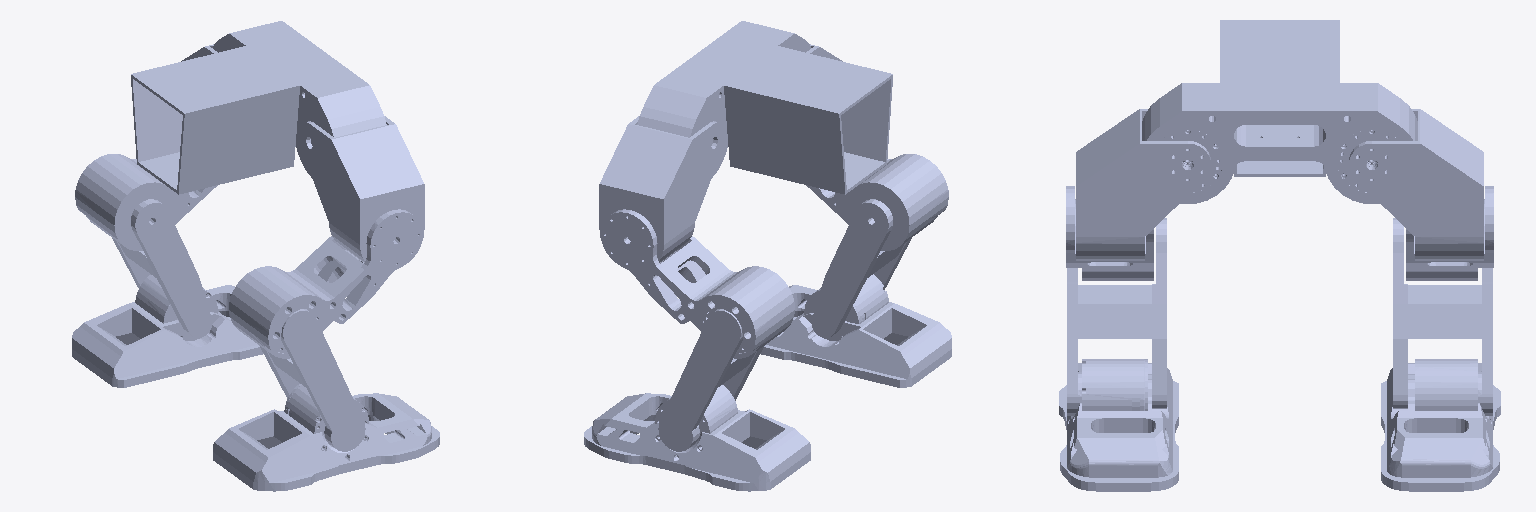
The robot description file, URDF, robot "guguji":
<?xml version="1.0" encoding="utf-8"?>
<!-- This URDF was automatically created by SolidWorks to URDF Exporter! Originally created by Stephen Brawner (brawner@gmail.com) 
     Commit Version: 1.6.0-4-g7f85cfe  Build Version: 1.6.7995.38578
     For more information, please see http://wiki.ros.org/sw_urdf_exporter -->
<!-- 为了适配 ROS 2 Humble 仿真，这里仅对导出结果做了少量必要修正：
     1. mesh 资源路径统一改到 guguji_ros2 包名下；
     2. 修正左髋关节名拼写；
     3. 将右踝俯仰关节改为与左侧一致的 revolute，避免仿真中单侧连续转动。
     4. 为各个关节补充可视化调试范围，便于 joint_state_publisher_gui 在 RViz 中驱动模型。 -->
<robot
  name="guguji">
  <link
    name="base_link">
    <inertial>
      <origin
        xyz="-0.01311 4.4564E-15 -0.038387"
        rpy="0 0 0" />
      <mass
        value="0.79357" />
      <inertia
        ixx="0.00242"
        ixy="-5.1575E-18"
        ixz="-4.465E-06"
        iyy="0.0007494"
        iyz="-1.1414E-08"
        izz="0.0022891" />
    </inertial>
    <visual>
      <origin
        xyz="0 0 0"
        rpy="0 0 0" />
      <geometry>
        <mesh
          filename="package://guguji_ros2/meshes/base_link.STL" />
      </geometry>
      <material
        name="">
        <color
          rgba="0.79216 0.81961 0.93333 1" />
      </material>
    </visual>
    <collision>
      <origin
        xyz="0 0 0"
        rpy="0 0 0" />
      <geometry>
        <mesh
          filename="package://guguji_ros2/meshes/base_link.STL" />
      </geometry>
    </collision>
  </link>
  <link
    name="left_hip_pitch_link">
    <inertial>
      <origin
        xyz="-0.020507 0.056794 -0.042649"
        rpy="0 0 0" />
      <mass
        value="0.36126" />
      <inertia
        ixx="0.00033468"
        ixy="2.8388E-06"
        ixz="-1.7075E-06"
        iyy="0.00033343"
        iyz="4.5382E-05"
        izz="0.00029074" />
    </inertial>
    <visual>
      <origin
        xyz="0 0 0"
        rpy="0 0 0" />
      <geometry>
        <mesh
          filename="package://guguji_ros2/meshes/left_hip_pitch_link.STL" />
      </geometry>
      <material
        name="">
        <color
          rgba="0.79216 0.81961 0.93333 1" />
      </material>
    </visual>
    <collision>
      <origin
        xyz="0 0 0"
        rpy="0 0 0" />
      <geometry>
        <mesh
          filename="package://guguji_ros2/meshes/left_hip_pitch_link.STL" />
      </geometry>
    </collision>
  </link>
  <joint
    name="left_hip_pitch_joint"
    type="revolute">
    <origin
      xyz="0.0212 0.075 -0.045"
      rpy="0 0 0" />
    <parent
      link="base_link" />
    <child
      link="left_hip_pitch_link" />
    <axis
      xyz="-1 0 -8.3367E-05" />
    <!-- SolidWorks 导出时把关节范围都写成了 0~0，
         这样 GUI 的滑块、Random、Center 都不会产生动作。
         这里先给一组用于 RViz/Gazebo 调试的临时范围，后续可按真实机构极限再细化。 -->
    <limit
      lower="-1.0"
      upper="1.0"
      effort="10.0"
      velocity="2.0" />
  </joint>
  <link
    name="left_knee_pitch_link">
    <inertial>
      <origin
        xyz="-0.079749 -0.02485 -0.05519"
        rpy="0 0 0" />
      <mass
        value="0.30699" />
      <inertia
        ixx="0.00018914"
        ixy="-9.6861E-06"
        ixz="-0.00012324"
        iyy="0.00045996"
        iyz="-7.9583E-06"
        izz="0.00036515" />
    </inertial>
    <visual>
      <origin
        xyz="0 0 0"
        rpy="0 0 0" />
      <geometry>
        <mesh
          filename="package://guguji_ros2/meshes/left_knee_pitch_link.STL" />
      </geometry>
      <material
        name="">
        <color
          rgba="0.79216 0.81961 0.93333 1" />
      </material>
    </visual>
    <collision>
      <origin
        xyz="0 0 0"
        rpy="0 0 0" />
      <geometry>
        <mesh
          filename="package://guguji_ros2/meshes/left_knee_pitch_link.STL" />
      </geometry>
    </collision>
  </link>
  <joint
    name="left_knee_pitch_joint"
    type="revolute">
    <origin
      xyz="-0.0207 0.086 -0.065"
      rpy="0 -8.3367E-05 0" />
    <parent
      link="left_hip_pitch_link" />
    <child
      link="left_knee_pitch_link" />
    <axis
      xyz="0 -1 0" />
    <limit
      lower="-1.2"
      upper="1.2"
      effort="10.0"
      velocity="2.0" />
  </joint>
  <link
    name="left_ankle_pitch_link">
    <inertial>
      <origin
        xyz="0.025229 0.041641 -0.055333"
        rpy="0 0 0" />
      <mass
        value="0.16139" />
      <inertia
        ixx="0.00032566"
        ixy="-6.0329E-07"
        ixz="7.4777E-05"
        iyy="0.00022706"
        iyz="1.0258E-06"
        izz="0.00019522" />
    </inertial>
    <visual>
      <origin
        xyz="0 0 0"
        rpy="0 0 0" />
      <geometry>
        <mesh
          filename="package://guguji_ros2/meshes/left_ankle_pitch_link.STL" />
      </geometry>
      <material
        name="">
        <color
          rgba="0.79216 0.81961 0.93333 1" />
      </material>
    </visual>
    <collision>
      <origin
        xyz="0 0 0"
        rpy="0 0 0" />
      <geometry>
        <mesh
          filename="package://guguji_ros2/meshes/left_ankle_pitch_link.STL" />
      </geometry>
    </collision>
  </link>
  <joint
    name="left_ankle_pitch_joint"
    type="revolute">
    <origin
      xyz="-0.10001 -0.068602 -0.064992"
      rpy="0 0 0" />
    <parent
      link="left_knee_pitch_link" />
    <child
      link="left_ankle_pitch_link" />
    <axis
      xyz="0 -1 0" />
    <limit
      lower="-0.8"
      upper="0.8"
      effort="8.0"
      velocity="2.0" />
  </joint>
  <link
    name="left_foot_link">
    <inertial>
      <origin
        xyz="0.00086189 -0.028039 -0.012007"
        rpy="0 0 0" />
      <mass
        value="0.52086" />
      <inertia
        ixx="0.00034206"
        ixy="6.9489E-06"
        ixz="1.2323E-05"
        iyy="0.0011393"
        iyz="2.4066E-06"
        izz="0.0013288" />
    </inertial>
    <visual>
      <origin
        xyz="0 0 0"
        rpy="0 0 0" />
      <geometry>
        <mesh
          filename="package://guguji_ros2/meshes/left_foot_link.STL" />
      </geometry>
      <material
        name="">
        <color
          rgba="0.79216 0.81961 0.93333 1" />
      </material>
    </visual>
    <collision>
      <origin
        xyz="0 0 0"
        rpy="0 0 0" />
      <geometry>
        <mesh
          filename="package://guguji_ros2/meshes/left_foot_link.STL" />
      </geometry>
    </collision>
  </link>
  <joint
    name="left_ankle_joint"
    type="revolute">
    <origin
      xyz="0.04999 0.068602 -0.115"
      rpy="0 0 0" />
    <parent
      link="left_ankle_pitch_link" />
    <child
      link="left_foot_link" />
    <axis
      xyz="0 -1 0" />
    <limit
      lower="-0.6"
      upper="0.6"
      effort="8.0"
      velocity="2.0" />
  </joint>
  <link
    name="right_hip_pitch_link">
    <inertial>
      <origin
        xyz="-0.020511 -0.056935 -0.042647"
        rpy="0 0 0" />
      <mass
        value="0.36126" />
      <inertia
        ixx="0.00033468"
        ixy="-2.8417E-06"
        ixz="-1.6994E-06"
        iyy="0.00033343"
        iyz="-4.5381E-05"
        izz="0.00029074" />
    </inertial>
    <visual>
      <origin
        xyz="0 0 0"
        rpy="0 0 0" />
      <geometry>
        <mesh
          filename="package://guguji_ros2/meshes/right_hip_pitch_link.STL" />
      </geometry>
      <material
        name="">
        <color
          rgba="0.79216 0.81961 0.93333 1" />
      </material>
    </visual>
    <collision>
      <origin
        xyz="0 0 0"
        rpy="0 0 0" />
      <geometry>
        <mesh
          filename="package://guguji_ros2/meshes/right_hip_pitch_link.STL" />
      </geometry>
    </collision>
  </link>
  <joint
    name="right_hip_pitch_joint"
    type="revolute">
    <origin
      xyz="0.0212 -0.075 -0.045"
      rpy="0 -8.3367E-05 0" />
    <parent
      link="base_link" />
    <child
      link="right_hip_pitch_link" />
    <axis
      xyz="1 0 0" />
    <limit
      lower="-1.0"
      upper="1.0"
      effort="10.0"
      velocity="2.0" />
  </joint>
  <link
    name="right_knee_pitch_link">
    <inertial>
      <origin
        xyz="-0.079749 0.025083 -0.05519"
        rpy="0 0 0" />
      <mass
        value="0.30699" />
      <inertia
        ixx="0.00018914"
        ixy="9.6861E-06"
        ixz="-0.00012325"
        iyy="0.00045996"
        iyz="7.9583E-06"
        izz="0.00036515" />
    </inertial>
    <visual>
      <origin
        xyz="0 0 0"
        rpy="0 0 0" />
      <geometry>
        <mesh
          filename="package://guguji_ros2/meshes/right_knee_pitch_link.STL" />
      </geometry>
      <material
        name="">
        <color
          rgba="0.79216 0.81961 0.93333 1" />
      </material>
    </visual>
    <collision>
      <origin
        xyz="0 0 0"
        rpy="0 0 0" />
      <geometry>
        <mesh
          filename="package://guguji_ros2/meshes/right_knee_pitch_link.STL" />
      </geometry>
    </collision>
  </link>
  <joint
    name="right_knee_pitch_joint"
    type="revolute">
    <origin
      xyz="-0.020705 -0.0864 -0.064998"
      rpy="0 0 0" />
    <parent
      link="right_hip_pitch_link" />
    <child
      link="right_knee_pitch_link" />
    <axis
      xyz="0 1 0" />
    <limit
      lower="-1.2"
      upper="1.2"
      effort="10.0"
      velocity="2.0" />
  </joint>
  <link
    name="right_ankle_pitch_link">
    <inertial>
      <origin
        xyz="0.025229 -0.041641 -0.055333"
        rpy="0 0 0" />
      <mass
        value="0.16139" />
      <inertia
        ixx="0.00032566"
        ixy="6.0329E-07"
        ixz="7.4777E-05"
        iyy="0.00022706"
        iyz="-1.0258E-06"
        izz="0.00019522" />
    </inertial>
    <visual>
      <origin
        xyz="0 0 0"
        rpy="0 0 0" />
      <geometry>
        <mesh
          filename="package://guguji_ros2/meshes/right_ankle_pitch_link.STL" />
      </geometry>
      <material
        name="">
        <color
          rgba="0.79216 0.81961 0.93333 1" />
      </material>
    </visual>
    <collision>
      <origin
        xyz="0 0 0"
        rpy="0 0 0" />
      <geometry>
        <mesh
          filename="package://guguji_ros2/meshes/right_ankle_pitch_link.STL" />
      </geometry>
    </collision>
  </link>
  <joint
    name="right_ankle_pitch_joint"
    type="revolute">
    <origin
      xyz="-0.10001 0.069002 -0.064992"
      rpy="0 0 0" />
    <parent
      link="right_knee_pitch_link" />
    <child
      link="right_ankle_pitch_link" />
    <axis
      xyz="0 1 0" />
    <limit
      lower="-0.8"
      upper="0.8"
      effort="8.0"
      velocity="2.0" />
  </joint>
  <link
    name="right_foot_link">
    <inertial>
      <origin
        xyz="0.0011206 0.029513 -0.015613"
        rpy="0 0 0" />
      <mass
        value="0.40057" />
      <inertia
        ixx="0.00029071"
        ixy="-6.947E-06"
        ixz="1.2318E-05"
        iyy="0.0010904"
        iyz="-2.4067E-06"
        izz="0.0012771" />
    </inertial>
    <visual>
      <origin
        xyz="0 0 0"
        rpy="0 0 0" />
      <geometry>
        <mesh
          filename="package://guguji_ros2/meshes/right_foot_link.STL" />
      </geometry>
      <material
        name="">
        <color
          rgba="0.79216 0.81961 0.93333 1" />
      </material>
    </visual>
    <collision>
      <origin
        xyz="0 0 0"
        rpy="0 0 0" />
      <geometry>
        <mesh
          filename="package://guguji_ros2/meshes/right_foot_link.STL" />
      </geometry>
    </collision>
  </link>
  <joint
    name="right_ankle_joint"
    type="revolute">
    <origin
      xyz="0.04999 -0.069002 -0.115"
      rpy="0 0 0" />
    <parent
      link="right_ankle_pitch_link" />
    <child
      link="right_foot_link" />
    <axis
      xyz="0 1 0" />
    <limit
      lower="-0.6"
      upper="0.6"
      effort="8.0"
      velocity="2.0" />
  </joint>

  <!-- Gazebo Fortress 仿真插件配置 -->
  <gazebo>
    <!-- 1. 让 Gazebo 直接发布模型的真实关节状态。
         后续 launch 文件会把这个 Gazebo 话题桥接成 ROS 侧的 /joint_states。 -->
    <plugin
      filename="ignition-gazebo-joint-state-publisher-system"
      name="ignition::gazebo::systems::JointStatePublisher">
    </plugin>

    <!-- 2. 让 Gazebo 直接发布模型/连杆位姿。
         这比 robot_state_publisher 更接近仿真真实状态，尤其是机器人底座在世界坐标中的运动。 -->
    <plugin
      filename="ignition-gazebo-pose-publisher-system"
      name="ignition::gazebo::systems::PosePublisher">
      <publish_link_pose>true</publish_link_pose>
      <publish_model_pose>true</publish_model_pose>
      <publish_nested_model_pose>true</publish_nested_model_pose>
      <use_pose_vector_msg>true</use_pose_vector_msg>
      <static_publisher>false</static_publisher>
      <static_update_frequency>1</static_update_frequency>
    </plugin>

    <!-- 3. 为每个关节挂一个位置控制器。
         控制器订阅的 topic 会在 launch 文件里桥接成 ROS 话题，
         这样你可以直接向 /guguji/command/<joint_name> 发送 Float64 角度命令。 -->
    <plugin
      filename="ignition-gazebo-joint-position-controller-system"
      name="ignition::gazebo::systems::JointPositionController">
      <joint_name>left_hip_pitch_joint</joint_name>
      <topic>/guguji/command/left_hip_pitch_joint</topic>
      <p_gain>15.0</p_gain>
      <i_gain>0.0</i_gain>
      <d_gain>0.8</d_gain>
      <initial_position>0.0</initial_position>
    </plugin>

    <plugin
      filename="ignition-gazebo-joint-position-controller-system"
      name="ignition::gazebo::systems::JointPositionController">
      <joint_name>left_knee_pitch_joint</joint_name>
      <topic>/guguji/command/left_knee_pitch_joint</topic>
      <p_gain>15.0</p_gain>
      <i_gain>0.0</i_gain>
      <d_gain>0.8</d_gain>
      <initial_position>0.0</initial_position>
    </plugin>

    <plugin
      filename="ignition-gazebo-joint-position-controller-system"
      name="ignition::gazebo::systems::JointPositionController">
      <joint_name>left_ankle_pitch_joint</joint_name>
      <topic>/guguji/command/left_ankle_pitch_joint</topic>
      <p_gain>12.0</p_gain>
      <i_gain>0.0</i_gain>
      <d_gain>0.6</d_gain>
      <initial_position>0.0</initial_position>
    </plugin>

    <plugin
      filename="ignition-gazebo-joint-position-controller-system"
      name="ignition::gazebo::systems::JointPositionController">
      <joint_name>left_ankle_joint</joint_name>
      <topic>/guguji/command/left_ankle_joint</topic>
      <p_gain>12.0</p_gain>
      <i_gain>0.0</i_gain>
      <d_gain>0.6</d_gain>
      <initial_position>0.0</initial_position>
    </plugin>

    <plugin
      filename="ignition-gazebo-joint-position-controller-system"
      name="ignition::gazebo::systems::JointPositionController">
      <joint_name>right_hip_pitch_joint</joint_name>
      <topic>/guguji/command/right_hip_pitch_joint</topic>
      <p_gain>15.0</p_gain>
      <i_gain>0.0</i_gain>
      <d_gain>0.8</d_gain>
      <initial_position>0.0</initial_position>
    </plugin>

    <plugin
      filename="ignition-gazebo-joint-position-controller-system"
      name="ignition::gazebo::systems::JointPositionController">
      <joint_name>right_knee_pitch_joint</joint_name>
      <topic>/guguji/command/right_knee_pitch_joint</topic>
      <p_gain>15.0</p_gain>
      <i_gain>0.0</i_gain>
      <d_gain>0.8</d_gain>
      <initial_position>0.0</initial_position>
    </plugin>

    <plugin
      filename="ignition-gazebo-joint-position-controller-system"
      name="ignition::gazebo::systems::JointPositionController">
      <joint_name>right_ankle_pitch_joint</joint_name>
      <topic>/guguji/command/right_ankle_pitch_joint</topic>
      <p_gain>12.0</p_gain>
      <i_gain>0.0</i_gain>
      <d_gain>0.6</d_gain>
      <initial_position>0.0</initial_position>
    </plugin>

    <plugin
      filename="ignition-gazebo-joint-position-controller-system"
      name="ignition::gazebo::systems::JointPositionController">
      <joint_name>right_ankle_joint</joint_name>
      <topic>/guguji/command/right_ankle_joint</topic>
      <p_gain>12.0</p_gain>
      <i_gain>0.0</i_gain>
      <d_gain>0.6</d_gain>
      <initial_position>0.0</initial_position>
    </plugin>
  </gazebo>
</robot>

--- Render facts (derived) ---
3 views of the same robot in one strip: view 1: azimuth 30°, elevation 25°; view 2: azimuth 150°, elevation 25°; view 3: azimuth 270°, elevation 25° (orthographic).
Model guguji with 9 links and 8 joints (8 revolute), rooted at base_link, posed all joints at 0.
Visible links, largest first — view 1: base_link, right_foot_link, right_knee_pitch_link, left_foot_link, right_hip_pitch_link, right_ankle_pitch_link, left_ankle_pitch_link, left_knee_pitch_link; view 2: base_link, left_foot_link, left_knee_pitch_link, right_foot_link, left_hip_pitch_link, left_ankle_pitch_link, right_ankle_pitch_link, right_knee_pitch_link; view 3: base_link, right_foot_link, left_foot_link, left_hip_pitch_link, right_hip_pitch_link, left_ankle_pitch_link, right_ankle_pitch_link, left_knee_pitch_link, right_knee_pitch_link.
Boxes of the visible links, x1,y1,x2,y2 form: base_link: (131,21,386,194); right_foot_link: (213,384,439,491); right_knee_pitch_link: (229,209,422,358); left_foot_link: (72,275,263,387); right_hip_pitch_link: (299,116,424,269); right_ankle_pitch_link: (260,309,365,451); left_ankle_pitch_link: (112,199,212,337); left_knee_pitch_link: (75,154,217,250); base_link: (637,21,892,194); left_foot_link: (584,385,810,491); left_knee_pitch_link: (601,209,794,358); right_foot_link: (760,274,951,387); left_hip_pitch_link: (599,116,724,269); left_ankle_pitch_link: (658,309,763,451); right_ankle_pitch_link: (811,199,911,337); right_knee_pitch_link: (806,154,948,250); base_link: (1142,20,1417,203); right_foot_link: (1059,359,1178,491); left_foot_link: (1381,359,1500,491); left_hip_pitch_link: (1349,109,1483,260); right_hip_pitch_link: (1076,109,1210,260); left_ankle_pitch_link: (1393,218,1492,415); right_ankle_pitch_link: (1067,218,1166,415); left_knee_pitch_link: (1406,186,1493,280); right_knee_pitch_link: (1066,186,1153,280).
Size in the robot's own frame: 0.2037 by 0.3607 by 0.3285 metres.
Meshes: 9 distinct files referenced, 9 mesh visuals loaded (9 binary STL).
